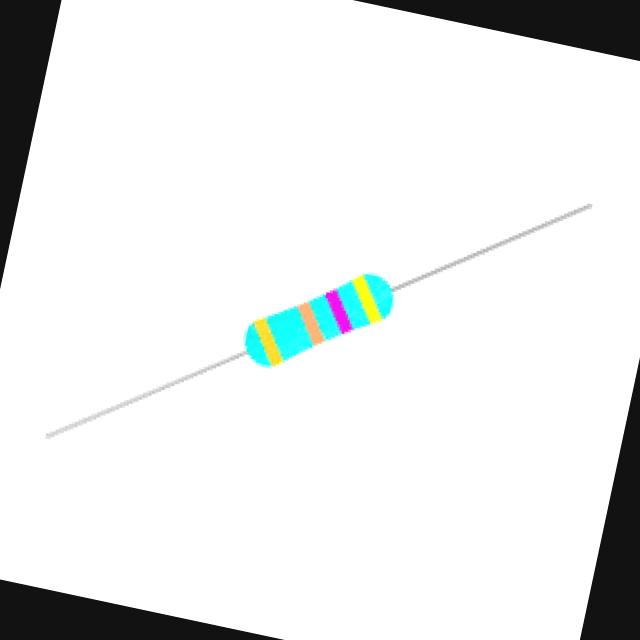Resistor: (248, 274, 394, 365)
gold: (255, 318, 281, 365)
orange: (298, 302, 324, 345)
purple: (326, 288, 353, 332)
yellow: (352, 277, 381, 324)
